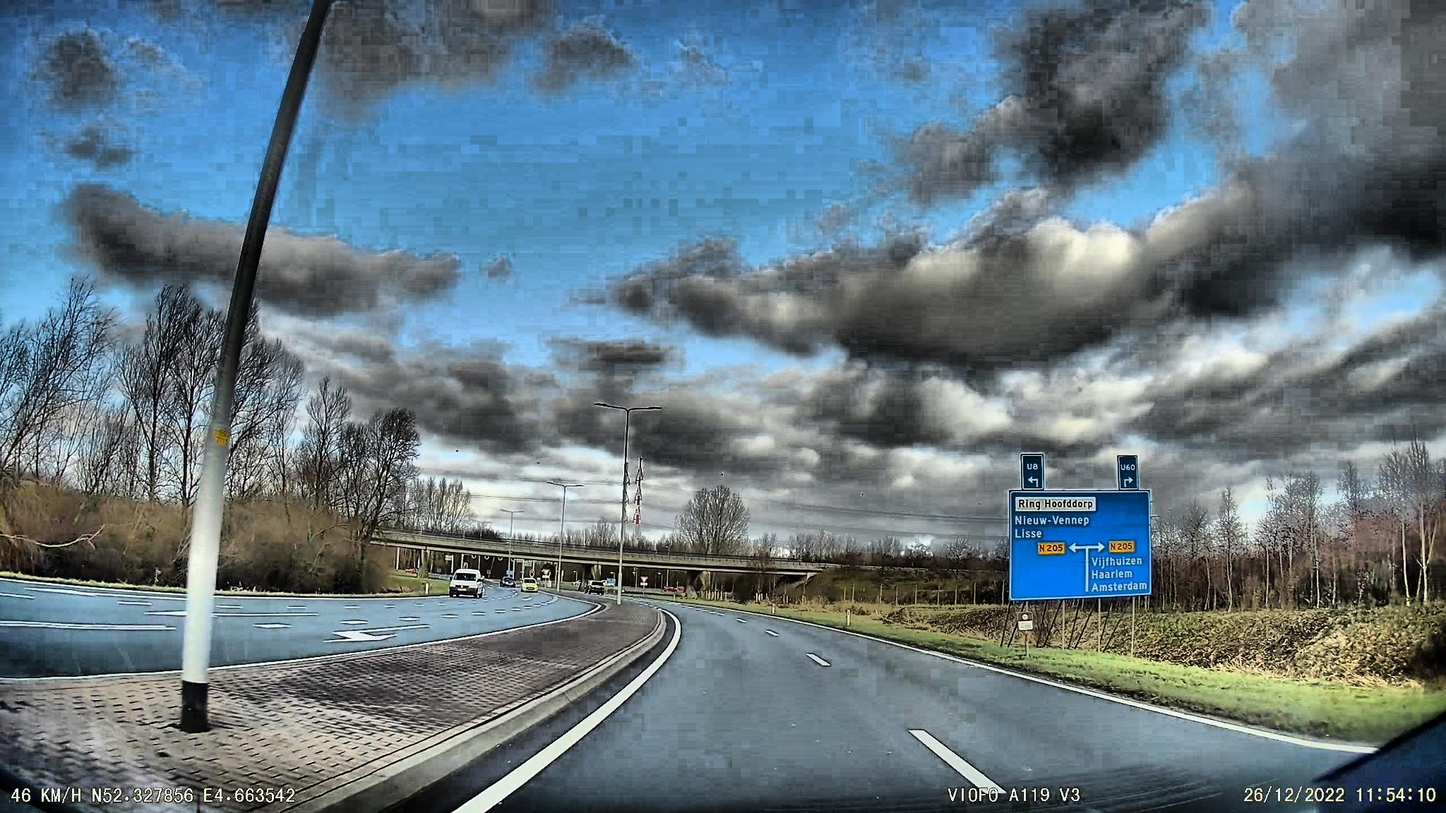Roads: (297, 606, 1361, 813)
